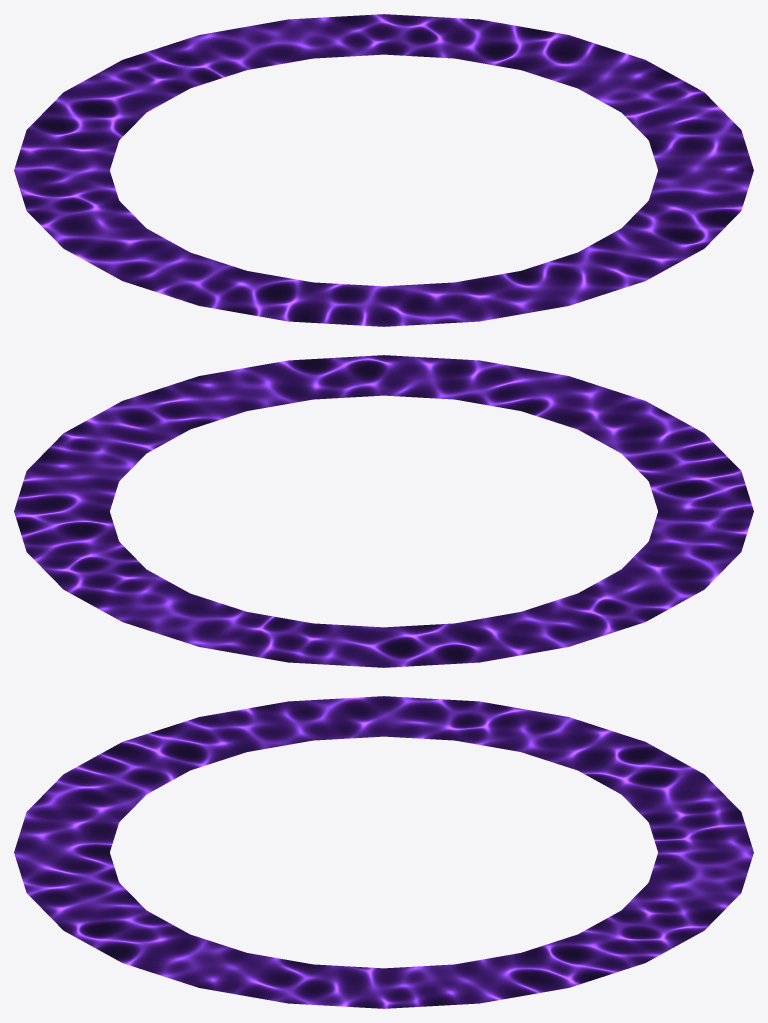
Rendered from water_fountain.glb.
3 views of the same model, one above another, from view 1: azimuth 30°, elevation 25°; view 2: azimuth 150°, elevation 25°; view 3: azimuth 270°, elevation 25° (orthographic).
Parts seen in each view (by area): view 1: Cylinder.043; view 2: Cylinder.043; view 3: Cylinder.043.
Boxes of the visible parts, bbox=[...] form: Cylinder.043: bbox=[14, 14, 753, 326]; Cylinder.043: bbox=[14, 355, 753, 667]; Cylinder.043: bbox=[14, 696, 753, 1008].
Bounding box in the file's own units: 39.54 × 0 × 39.54.
1 material, 1 textured.
